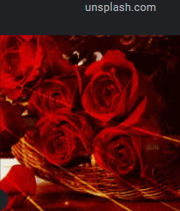RedRose: (94, 117, 166, 186), (81, 52, 136, 128), (32, 111, 93, 166)
